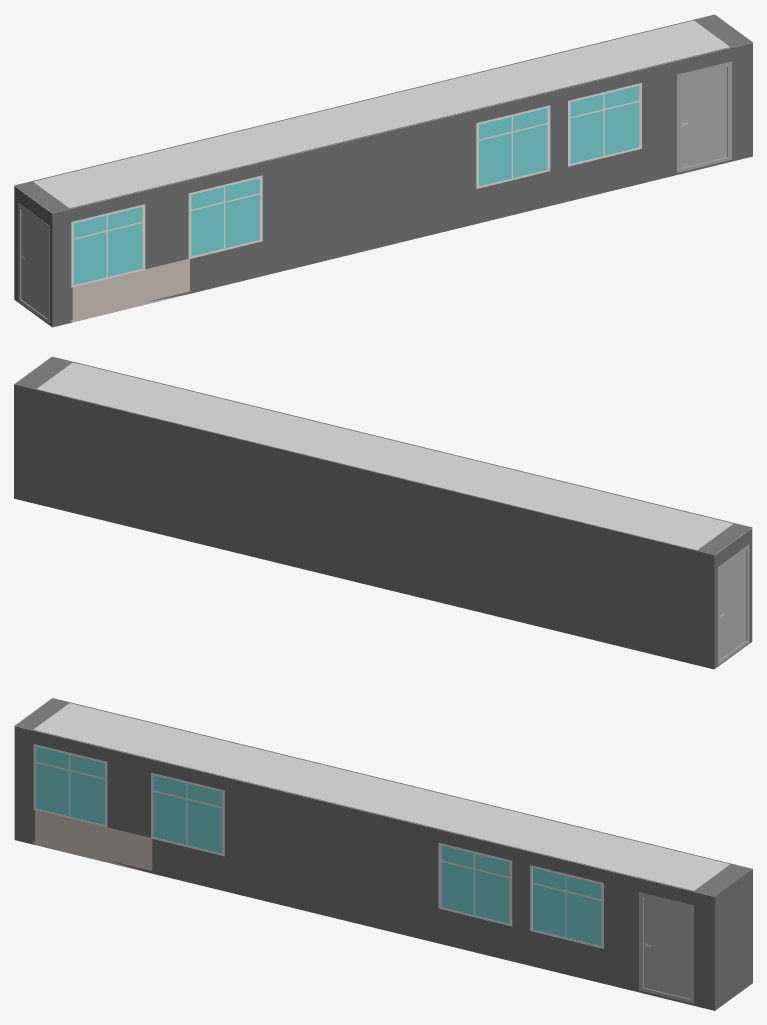
Rendered from FlurC2.obj.
3 views of the same model, one above another, from view 1: azimuth 30°, elevation 25°; view 2: azimuth 150°, elevation 25°; view 3: azimuth 330°, elevation 25° (orthographic).
Parts seen in each view (by area): view 1: pPlane1 room, pPlane2, room pCube238, room pCube233, room pCube237, room pCube234, room pCube236, room pCube232; view 2: pPlane1 room, pPlane2, room pCube232; view 3: pPlane1 room, pPlane2, room pCube238, room pCube234, room pCube237, room pCube233, room pCube236.
Boxes of the visible parts, x1,y1,x2,y2 form: pPlane1 room: [14, 14, 752, 327]; pPlane2: [14, 20, 752, 213]; room pCube238: [677, 61, 731, 172]; room pCube233: [188, 175, 262, 259]; room pCube237: [476, 105, 550, 188]; room pCube234: [71, 204, 145, 287]; room pCube236: [568, 83, 641, 166]; room pCube232: [18, 203, 49, 324]; pPlane1 room: [14, 356, 752, 669]; pPlane2: [37, 356, 752, 554]; room pCube232: [718, 544, 749, 665]; pPlane1 room: [14, 698, 752, 1010]; pPlane2: [14, 698, 729, 896]; room pCube238: [639, 892, 693, 1003]; room pCube234: [33, 744, 107, 827]; room pCube237: [438, 842, 512, 926]; room pCube233: [151, 772, 224, 856]; room pCube236: [530, 865, 603, 948].
Size of the model in its own units: 19.97 by 3.11 by 1.89.
